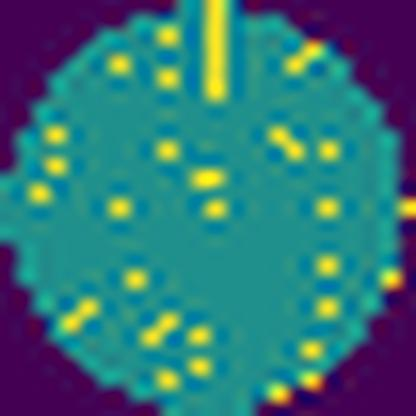Scratch: (197, 0, 233, 109)
